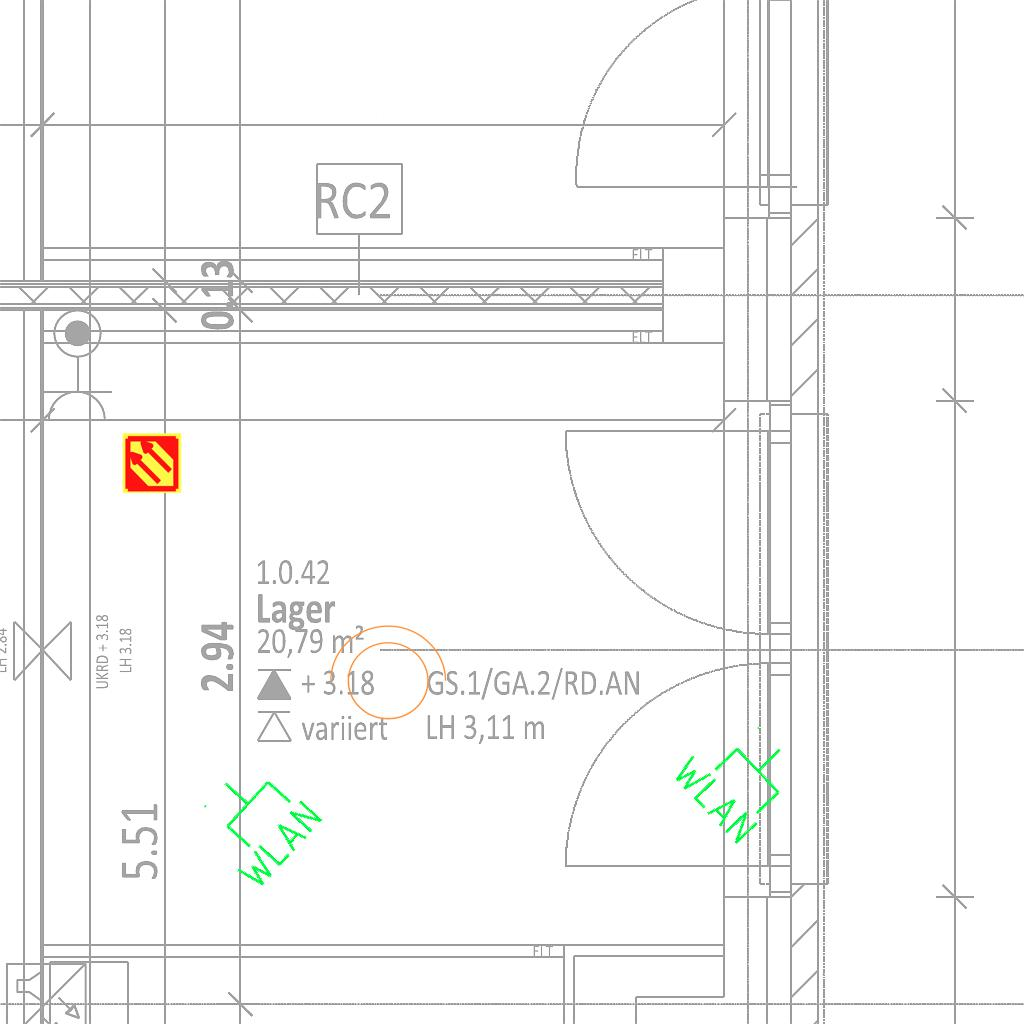ASR_Ansaugrauchmelder: (121, 432, 183, 494)
Scheinwerfer_fuer_Alarmbeleuchtung: (319, 620, 451, 732)
WLAN: (664, 702, 812, 851), (181, 749, 329, 898)
